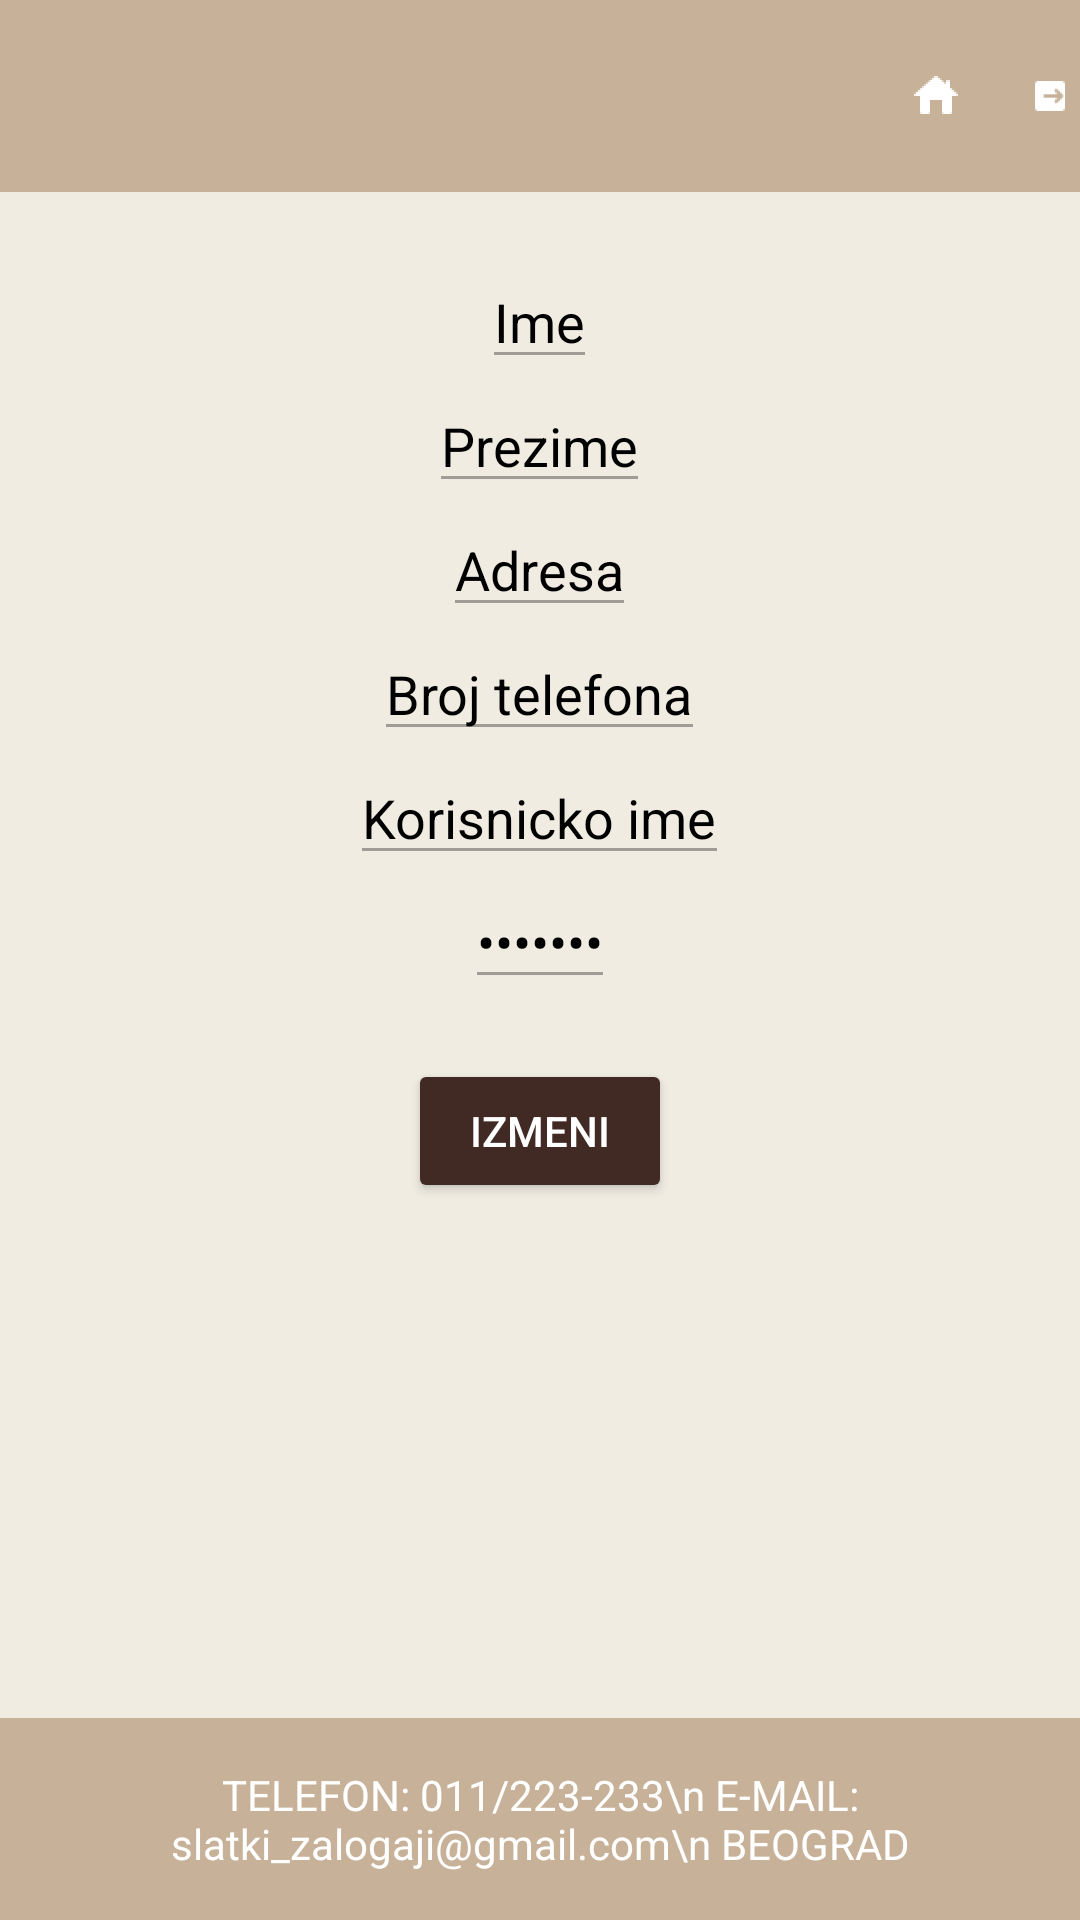

Named icons in this screenshot (1080*1920) and their centers, [x,y]:
home: [936,95]
